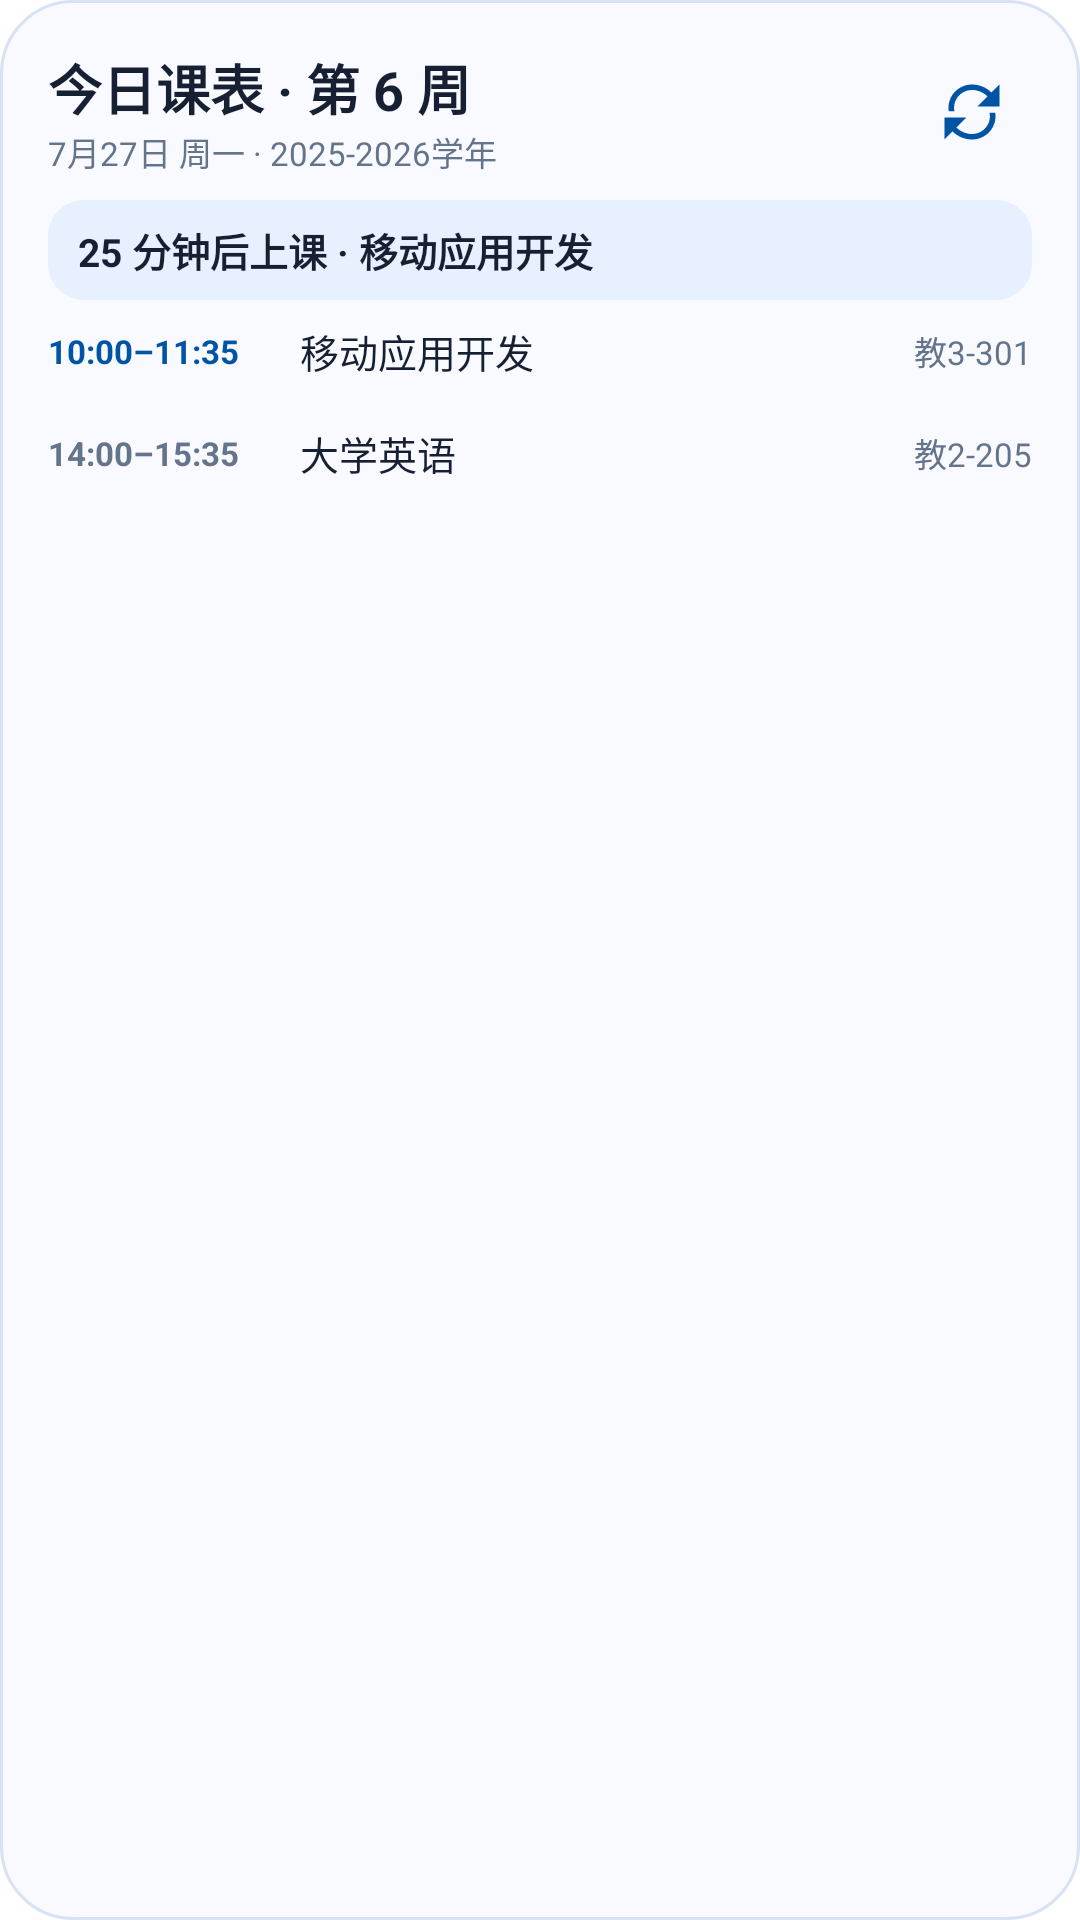

Icon bounding boxes for this 1080 x 1920 phone screenshot, format (x1, y1, x2, y2):
刷新桌面课表: (944, 84, 1000, 140)
